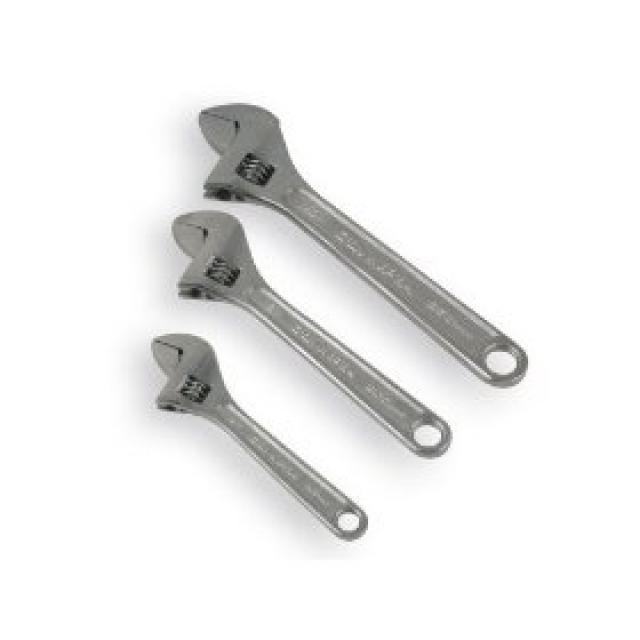wrench: (193, 94, 532, 391), (170, 204, 458, 463), (146, 329, 372, 548)
